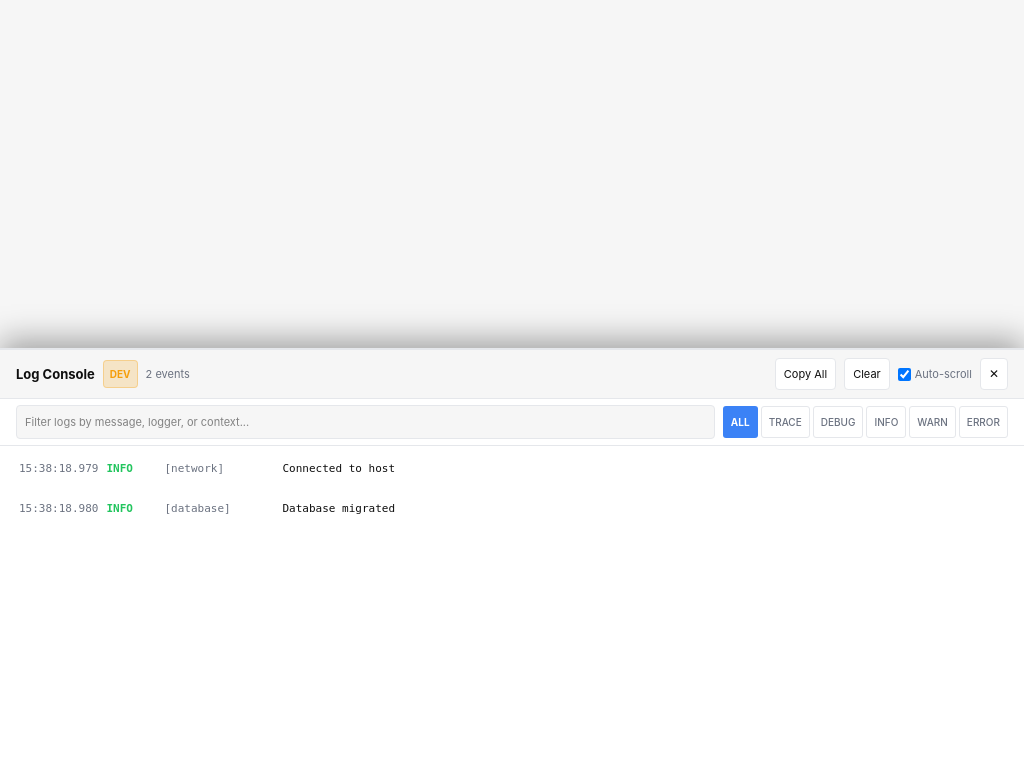
Test: LogViewer Component › filters log entries by search query
This screenshot has width=1024, height=768.
Type "database" into the field with test id "log-search-input" at (365, 422), box [16, 405, 715, 439]
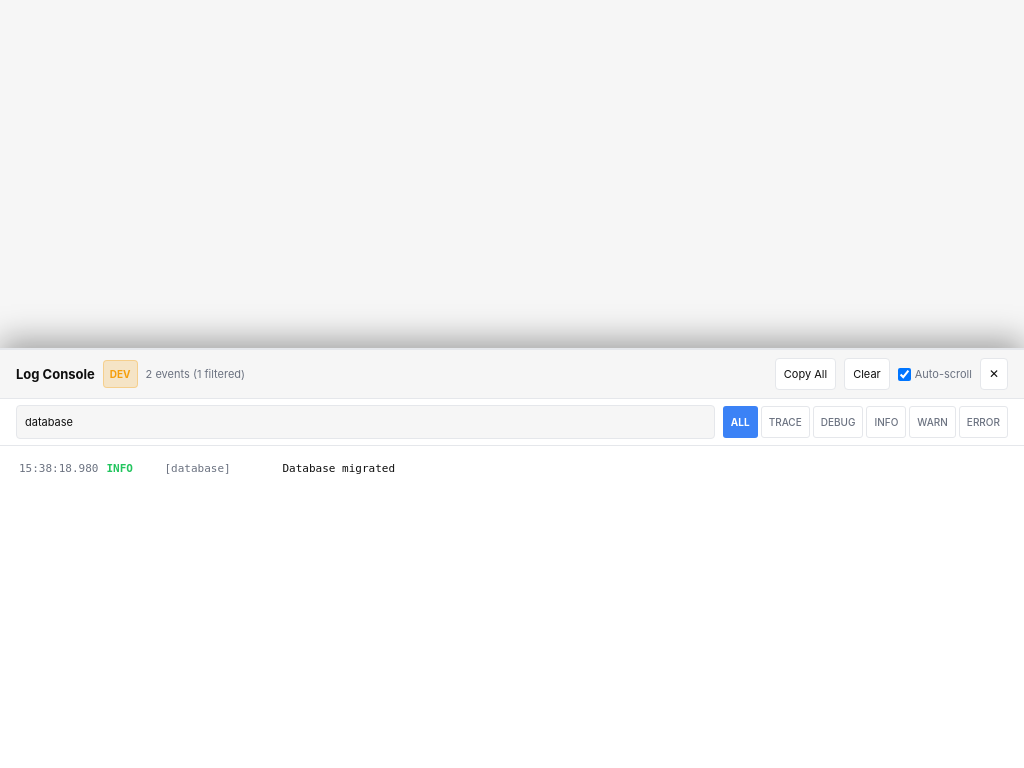
Result: the text "Connected to host" is gone
Result: the text "Database migrated" is shown at [282, 462, 395, 475]
